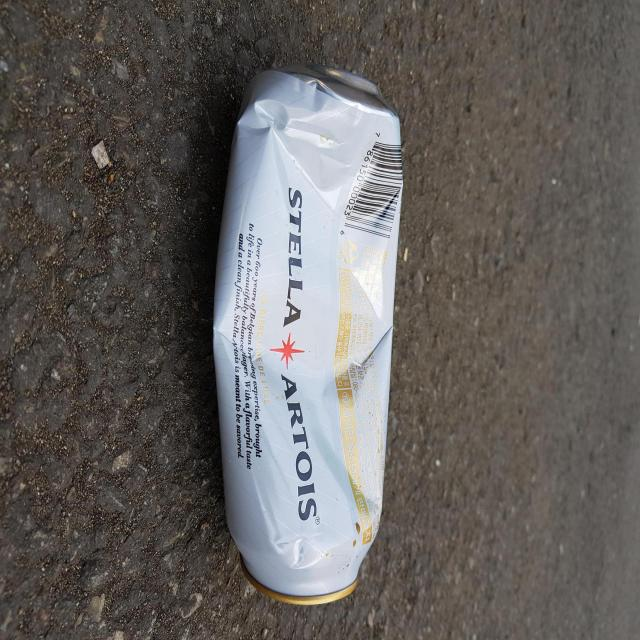can: (213, 63, 403, 605)
